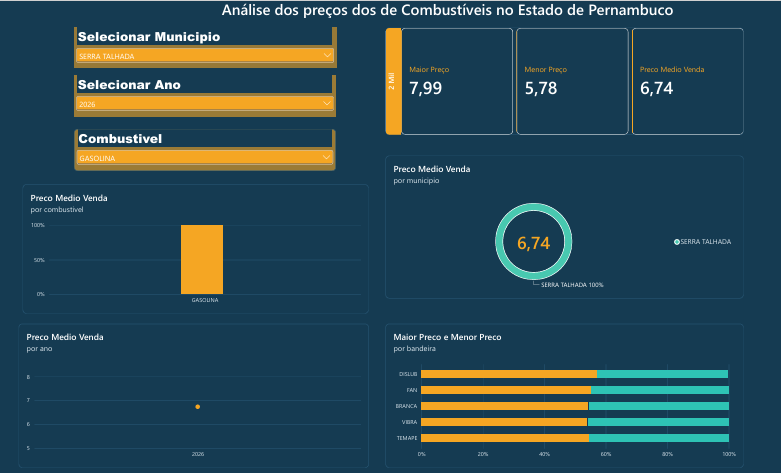

This screenshot's page, from the dashboard's own definition file:
{"tool":"powerbi","page":{"name":"Página 1","canvas":[1920,1080],"ordinal":0},"visuals":[{"type":"slicer","fields":{"Values":["public dim_tempo.ano","public dim_tempo.ano"]},"box":[160,194.3,561,89],"z":0},{"type":"cardVisual","fields":{"Data":["public fato_preco_combustivel.Maior Preco","public fato_preco_combustivel.Menor Preco","public fato_preco_combustivel.Preco Medio Venda"],"Rows":["public dim_tempo.ano"]},"box":[844.3,91.4,750,230],"z":1000},{"type":"textbox","title":"Análise dos preços dos de Combustíveis no Estado de Pernambuco","box":[0,30,1920,38.6],"z":2000},{"type":"slicer","fields":{"Values":["public dim_local.municipio"]},"box":[160,91.4,562,87],"z":3000},{"type":"slicer","fields":{"Values":["public dim_combustivel.combustivel"]},"box":[160,308.6,561,90],"z":4000},{"type":"lineChart","fields":{"Category":["public dim_tempo.ano"],"Y":["public fato_preco_combustivel.Preco Medio Venda"]},"box":[42.9,471.4,397,184],"z":5000},{"type":"hundredPercentStackedColumnChart","fields":{"Category":["public dim_combustivel.combustivel"],"Y":["public fato_preco_combustivel.Preco Medio Venda"]},"box":[441.4,474.3,331,182],"z":6000},{"type":"hundredPercentStackedBarChart","fields":{"Category":["public dim_bandeira.bandeira"],"Y":["public fato_preco_combustivel.Maior Preco","public fato_preco_combustivel.Menor Preco"]},"box":[774.3,474.3,372,183],"z":7000},{"type":"pieChart","fields":{"Category":["public dim_local.municipio"],"Y":["public fato_preco_combustivel.Preco Medio Venda"]},"box":[1205.7,354.3,624.3,447.1],"z":8000}]}

Visuals, with their boxes on the page's 1920x1080 design canvas (x1, y1, x2, y2). These are canvas units, not pixel positions in the 781x473 screenshot, which may show the page scaled, cropped or inside an application window:
slicer - public dim_tempo.ano x public dim_tempo.ano: x1=160, y1=194, x2=721, y2=283
cardVisual - public fato_preco_combustivel.Maior Preco x public fato_preco_combustivel.Menor Preco: x1=844, y1=91, x2=1594, y2=321
"Análise dos preços dos de Combustíveis no Estado de Pernambuco" textbox: x1=0, y1=30, x2=1920, y2=69
slicer - public dim_local.municipio: x1=160, y1=91, x2=722, y2=178
slicer - public dim_combustivel.combustivel: x1=160, y1=309, x2=721, y2=399
lineChart - public dim_tempo.ano x public fato_preco_combustivel.Preco Medio Venda: x1=43, y1=471, x2=440, y2=655
hundredPercentStackedColumnChart - public dim_combustivel.combustivel x public fato_preco_combustivel.Preco Medio Venda: x1=441, y1=474, x2=772, y2=656
hundredPercentStackedBarChart - public dim_bandeira.bandeira x public fato_preco_combustivel.Maior Preco: x1=774, y1=474, x2=1146, y2=657
pieChart - public dim_local.municipio x public fato_preco_combustivel.Preco Medio Venda: x1=1206, y1=354, x2=1830, y2=801
